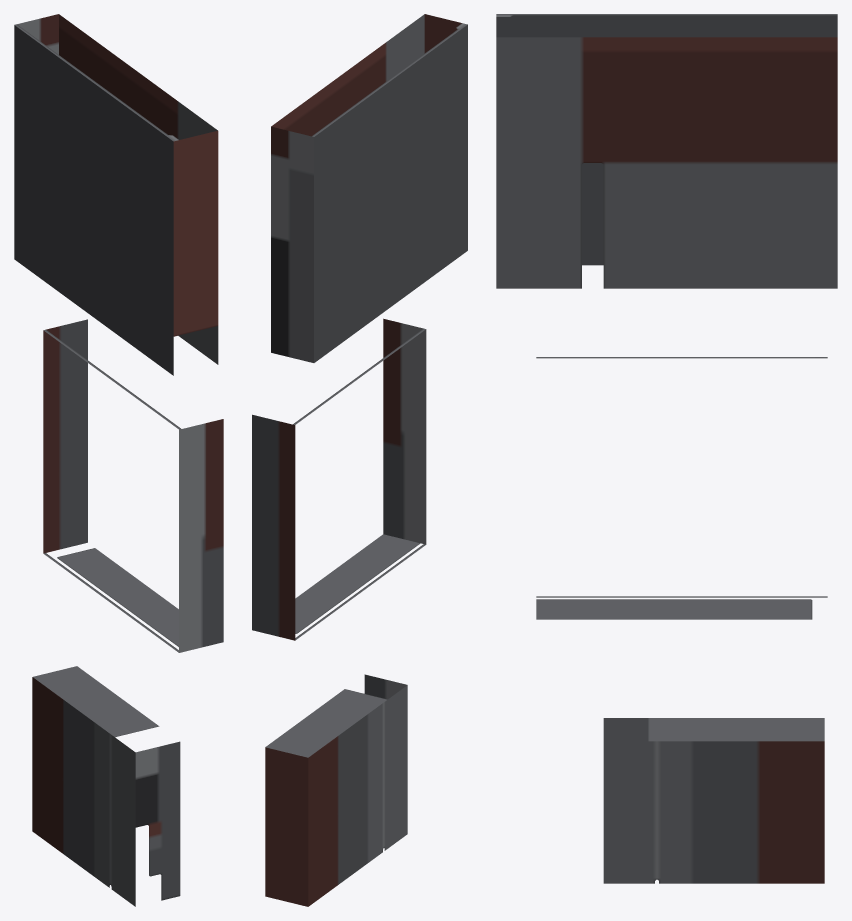
Rendered from section-0.obj.
The picture shows the model from 3 angles, left to right: view 1: azimuth 30°, elevation 25°; view 2: azimuth 150°, elevation 25°; view 3: azimuth 270°, elevation 25°; orthographic projection. The views are drawn at different scales.
Size of the model in its own units: 0.085 by 0.948 by 0.34.
